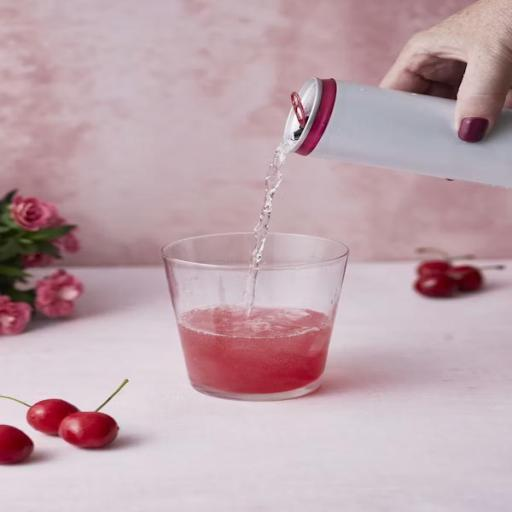bottle: (266, 65, 512, 198)
